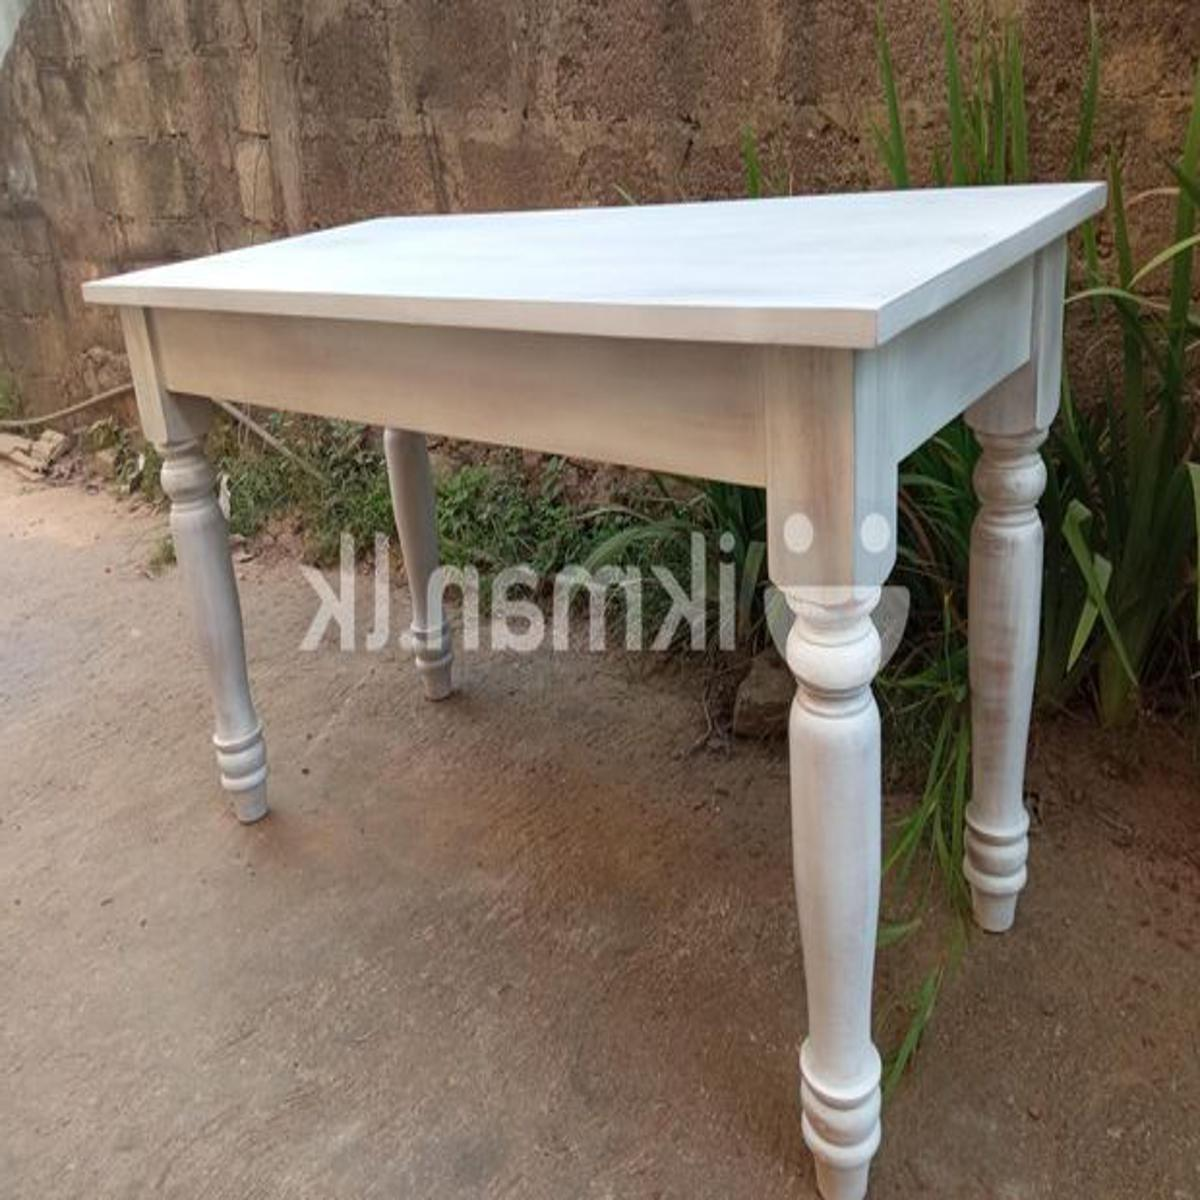Table: (71, 137, 1167, 1192)
